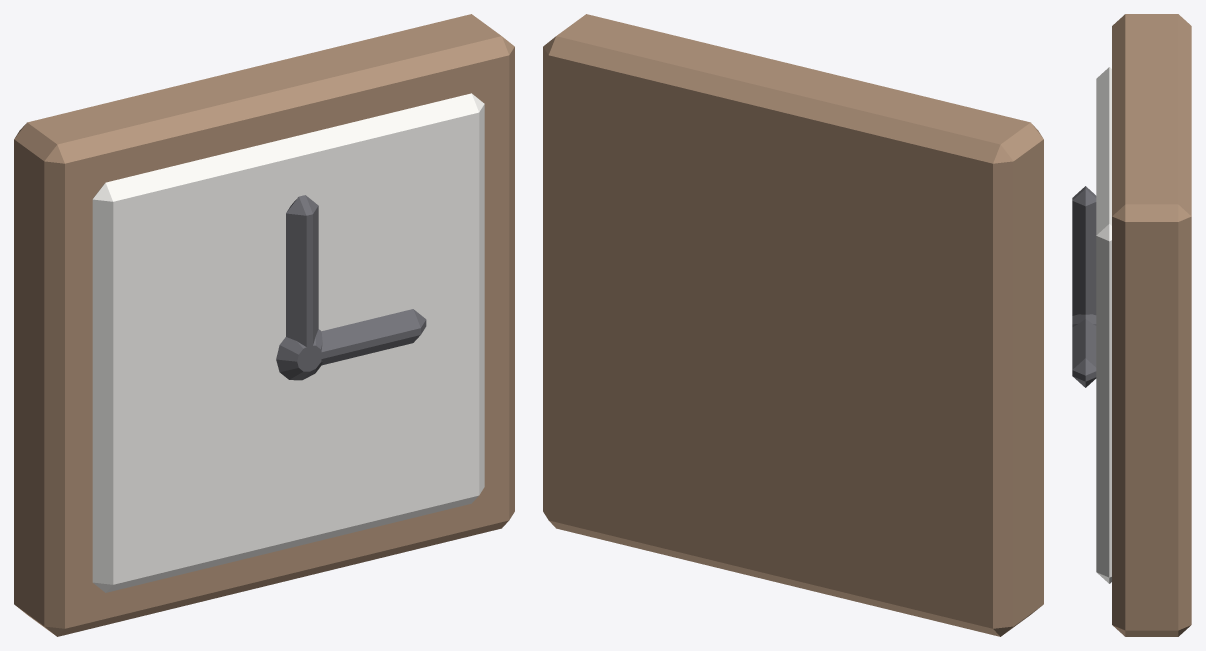
File: SM_Wall_Clock.fbx
3 views of the same model, side by side, from view 1: azimuth 30°, elevation 25°; view 2: azimuth 150°, elevation 25°; view 3: azimuth 270°, elevation 25° (orthographic). The views are drawn at different scales.
Parts seen in each view (by area): view 1: Wall_Clock; view 2: Wall_Clock; view 3: Wall_Clock.
Part boxes in pixels (x1,y1,x2,y2): Wall_Clock: (14, 14, 514, 636); Wall_Clock: (543, 14, 1043, 636); Wall_Clock: (1072, 14, 1191, 636).
Bounding box in the file's own units: 36 × 36 × 9.
